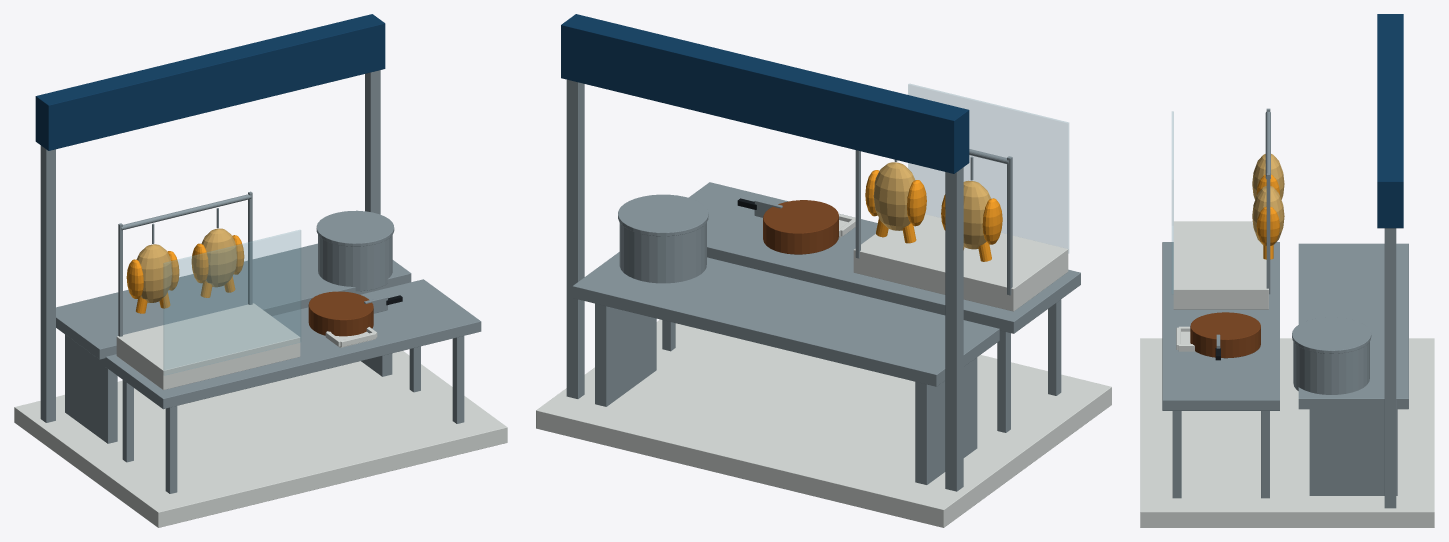
File: edited.glb
The picture shows the model from 3 angles, left to right: view 1: azimuth 30°, elevation 25°; view 2: azimuth 150°, elevation 25°; view 3: azimuth 270°, elevation 25°; orthographic projection. The views are drawn at different scales.
Visible parts, largest first — view 1: STALL_Base, STALL_Header, DISPLAY_ClearFront, COUNTER_Stainless, PREP_RearWorktop, DISPLAY_Base, STALL_Post, PREP_Support, RICE_Pot, CHOPPING_Block, RICE_Lid, STALL_Post.001 (+6 smaller); view 2: STALL_Base, STALL_Header, PREP_RearWorktop, DISPLAY_ClearFront, COUNTER_Stainless, DISPLAY_Base, STALL_Post, STALL_Post.001, PREP_Support.001, PREP_Support, RICE_Pot, CHOPPING_Block (+8 smaller); view 3: STALL_Base, PREP_RearWorktop, COUNTER_Stainless, DISPLAY_Base, PREP_Support.001, STALL_Header, STALL_Post.001, RICE_Pot, CHOPPING_Block, RICE_Lid, COUNTER_Leg.003, POULTRY_Body (+6 smaller).
Boxes of the visible parts, left/top/right/bottom form: STALL_Base: left=14, top=351, right=507, bottom=527; STALL_Header: left=35, top=14, right=385, bottom=150; DISPLAY_ClearFront: left=163, top=230, right=300, bottom=375; COUNTER_Stainless: left=105, top=279, right=481, bottom=409; PREP_RearWorktop: left=56, top=243, right=411, bottom=359; DISPLAY_Base: left=116, top=303, right=300, bottom=389; STALL_Post: left=40, top=145, right=55, bottom=422; PREP_Support: left=65, top=334, right=117, bottom=443; RICE_Pot: left=318, top=235, right=392, bottom=291; CHOPPING_Block: left=308, top=291, right=373, bottom=336; RICE_Lid: left=316, top=210, right=394, bottom=246; STALL_Post.001: left=365, top=70, right=380, bottom=214; STALL_Base: left=536, top=319, right=1111, bottom=527; STALL_Header: left=561, top=14, right=969, bottom=173; PREP_RearWorktop: left=572, top=252, right=999, bottom=386; DISPLAY_ClearFront: left=908, top=84, right=1068, bottom=253; COUNTER_Stainless: left=688, top=182, right=1080, bottom=333; DISPLAY_Base: left=853, top=214, right=1068, bottom=311; STALL_Post: left=945, top=167, right=963, bottom=491; STALL_Post.001: left=566, top=79, right=584, bottom=398; PREP_Support.001: left=595, top=303, right=656, bottom=406; PREP_Support: left=915, top=357, right=977, bottom=484; RICE_Pot: left=619, top=222, right=706, bottom=283; CHOPPING_Block: left=763, top=200, right=838, bottom=254; STALL_Base: left=1140, top=338, right=1434, bottom=527; PREP_RearWorktop: left=1298, top=243, right=1408, bottom=409; COUNTER_Stainless: left=1162, top=242, right=1279, bottom=410; DISPLAY_Base: left=1173, top=221, right=1268, bottom=309; PREP_Support.001: left=1309, top=409, right=1397, bottom=495; STALL_Header: left=1377, top=14, right=1403, bottom=228; STALL_Post.001: left=1384, top=228, right=1396, bottom=508; RICE_Pot: left=1293, top=341, right=1369, bottom=394; CHOPPING_Block: left=1190, top=312, right=1260, bottom=358; RICE_Lid: left=1292, top=317, right=1371, bottom=353; COUNTER_Leg.003: left=1172, top=411, right=1181, bottom=498; POULTRY_Body: left=1252, top=186, right=1284, bottom=244.
Bounding box in the file's own units: 2.8 × 2.58 × 2.
